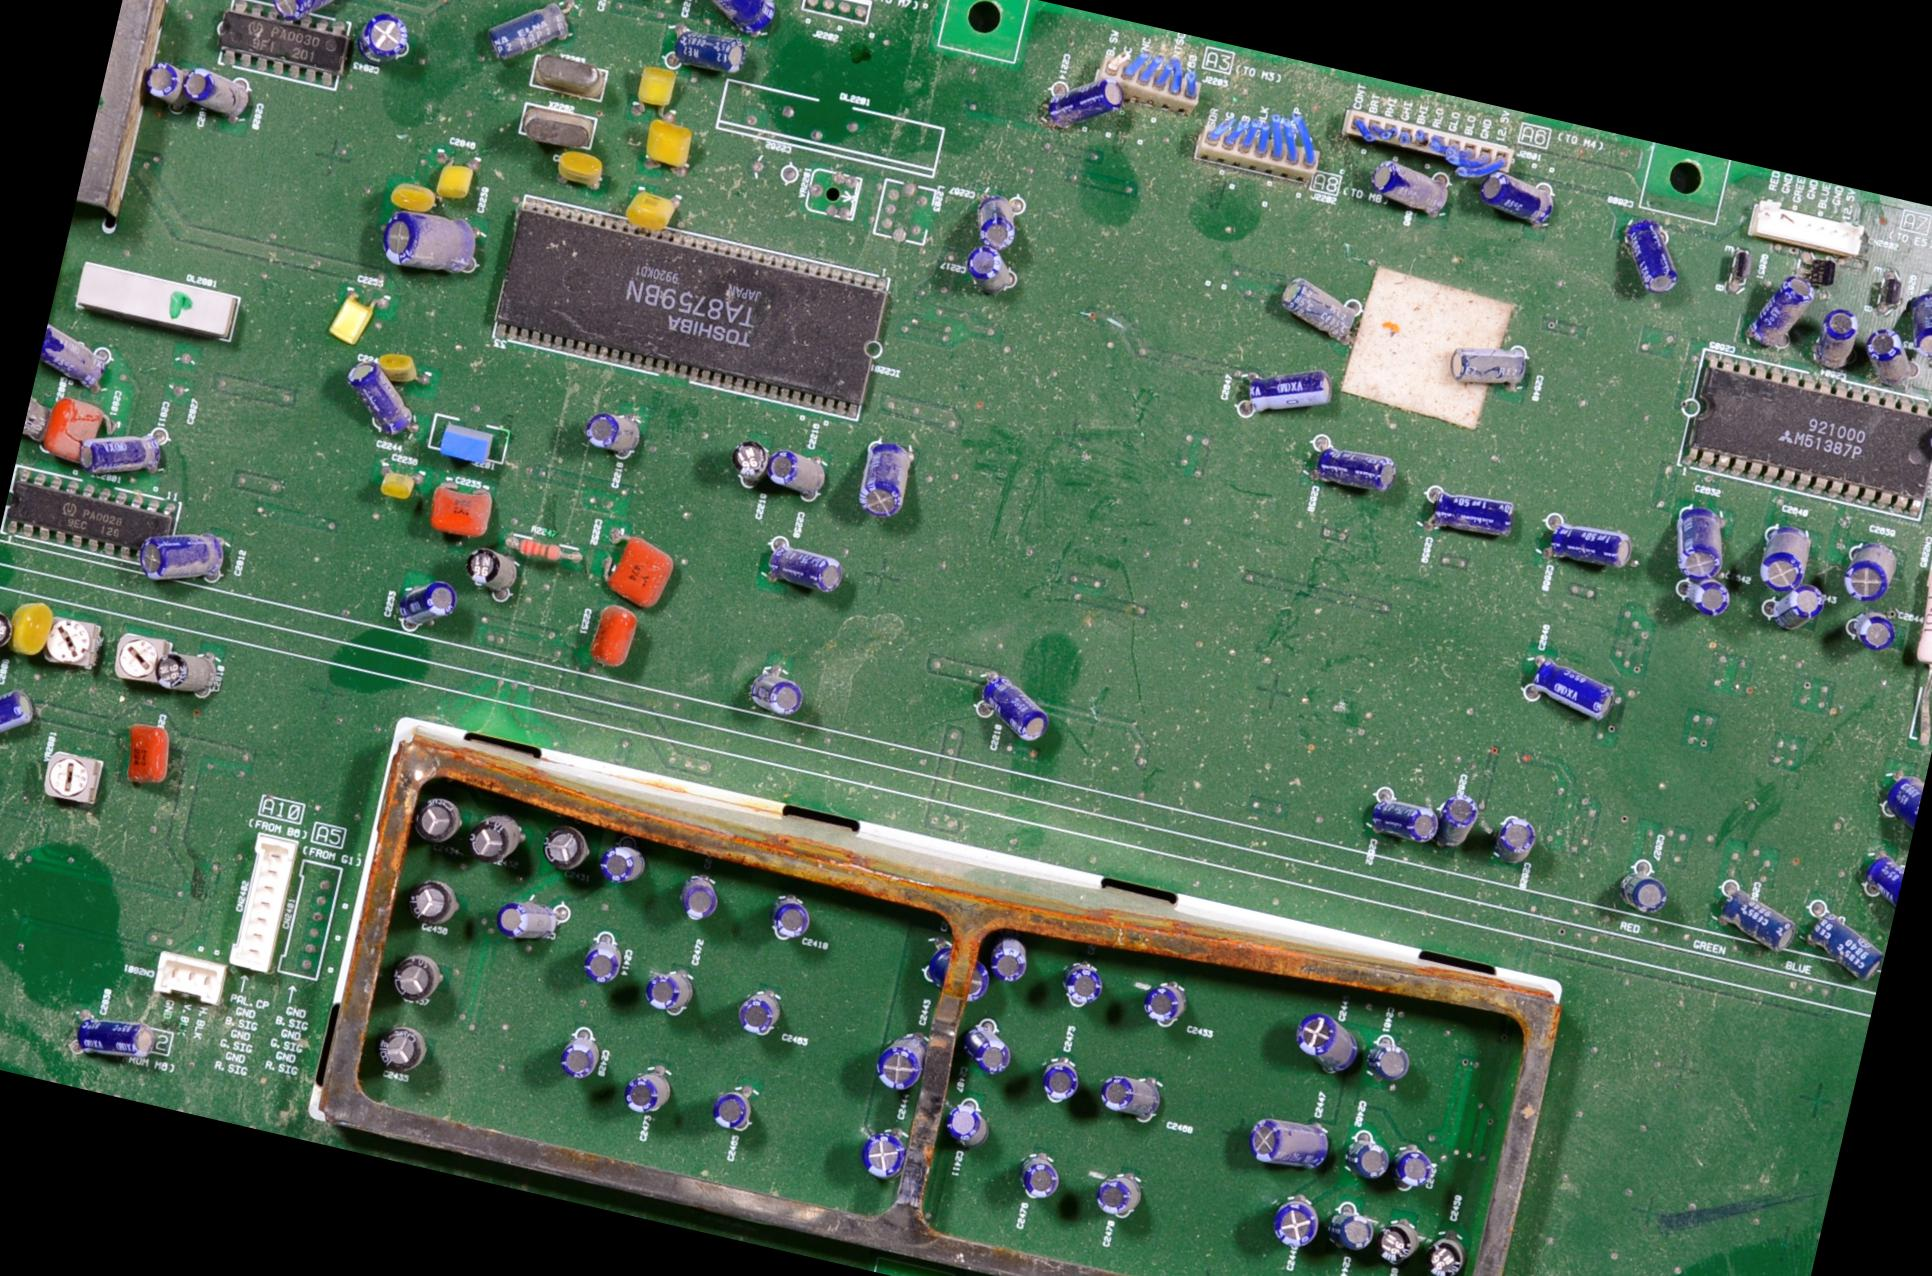Capacitor Jumper: (952, 657, 1065, 753), (1506, 637, 1623, 728), (1270, 266, 1382, 357), (1404, 481, 1526, 553), (1220, 352, 1334, 427), (847, 429, 928, 534), (379, 205, 477, 285), (81, 420, 188, 493), (1710, 882, 1795, 971), (1298, 429, 1404, 501), (696, 1078, 784, 1161), (1747, 517, 1829, 605), (1795, 904, 1878, 988), (1743, 259, 1814, 355), (1612, 209, 1689, 298), (1533, 506, 1627, 575), (1439, 332, 1532, 400), (64, 1005, 158, 1072), (142, 523, 232, 592), (337, 363, 414, 444), (1657, 484, 1730, 570), (595, 521, 665, 608), (1002, 1148, 1079, 1226), (1039, 68, 1122, 141), (739, 889, 823, 960), (1244, 1105, 1331, 1173), (33, 392, 105, 471), (913, 937, 995, 1007), (37, 319, 118, 386), (491, 0, 569, 68), (114, 713, 182, 790), (423, 473, 500, 541), (1354, 785, 1438, 846), (1804, 300, 1872, 375), (856, 1125, 927, 1195), (1288, 1001, 1357, 1074), (551, 147, 626, 212), (1365, 157, 1449, 215), (736, 654, 806, 723), (1316, 1201, 1388, 1267), (614, 1064, 689, 1128), (772, 550, 856, 607), (868, 1028, 935, 1099), (585, 601, 646, 678), (958, 181, 1021, 255), (1267, 1193, 1334, 1262), (958, 252, 1025, 319), (326, 279, 390, 349), (494, 894, 568, 953), (974, 933, 1041, 997), (1481, 800, 1543, 869), (1048, 953, 1112, 1018), (1754, 567, 1820, 631), (1428, 792, 1492, 857), (577, 403, 646, 463), (1671, 560, 1728, 632), (762, 449, 830, 508), (1613, 862, 1670, 933), (1093, 1062, 1156, 1126), (1085, 1162, 1146, 1228), (347, 7, 407, 74), (619, 181, 691, 236), (572, 931, 629, 1000), (1479, 165, 1549, 221), (1384, 1141, 1444, 1205), (723, 430, 789, 487), (689, 0, 784, 38), (407, 792, 470, 850), (669, 24, 740, 75), (1855, 850, 1905, 923), (0, 592, 58, 654), (1845, 595, 1904, 657), (1857, 315, 1912, 379), (535, 816, 597, 873), (1357, 1027, 1412, 1089), (961, 1021, 1018, 1081), (1334, 1129, 1390, 1191), (370, 1018, 433, 1072), (394, 575, 457, 629), (1878, 768, 1925, 839), (1845, 547, 1895, 614), (638, 114, 696, 171), (154, 647, 215, 701), (185, 61, 248, 114), (386, 947, 444, 1003), (0, 679, 41, 758), (458, 545, 515, 601), (463, 810, 525, 860), (400, 874, 456, 929), (369, 460, 424, 514), (595, 840, 651, 893), (671, 867, 723, 923), (138, 54, 191, 110), (938, 1095, 988, 1154), (1414, 1223, 1469, 1275), (632, 58, 681, 115), (1139, 974, 1192, 1025), (551, 1034, 604, 1085), (736, 987, 783, 1044), (641, 967, 693, 1017), (367, 346, 424, 392), (434, 158, 477, 214), (387, 174, 441, 216), (1374, 1213, 1419, 1262), (19, 386, 51, 450), (1908, 278, 1931, 367), (282, 0, 355, 23), (1034, 1057, 1072, 1097), (0, 607, 17, 666)
Connector: (226, 827, 305, 973), (151, 948, 225, 1004)
IC: (485, 188, 893, 419), (1674, 345, 1931, 525), (0, 464, 177, 572), (214, 0, 357, 90)
Resistor Jumper: (508, 533, 592, 574)
Transistor: (1874, 268, 1909, 319), (1794, 252, 1835, 293), (1721, 244, 1748, 293)
